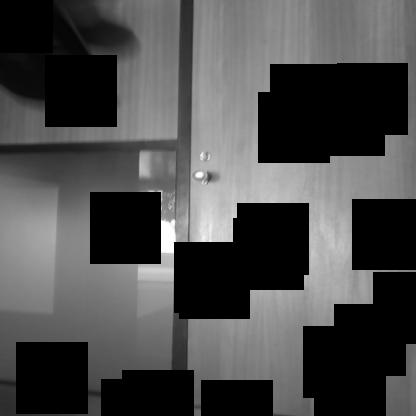Porte: (183, 1, 415, 415)
